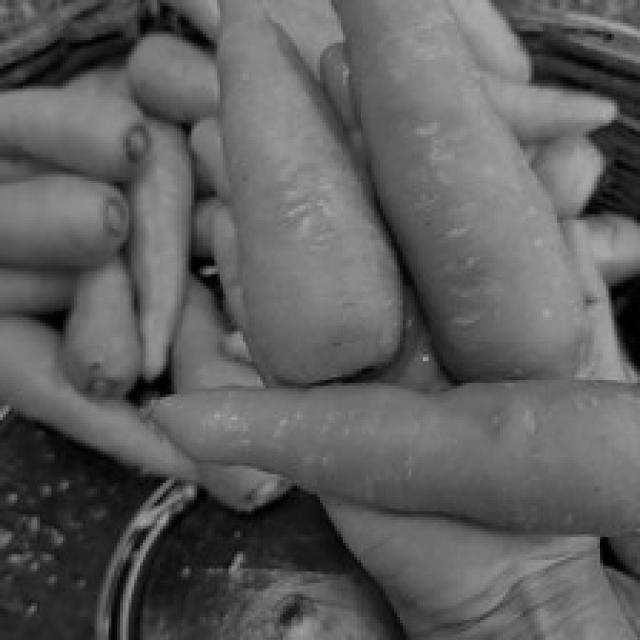Fresh_Carrot: (339, 0, 590, 372), (149, 383, 640, 525), (0, 166, 122, 265)
